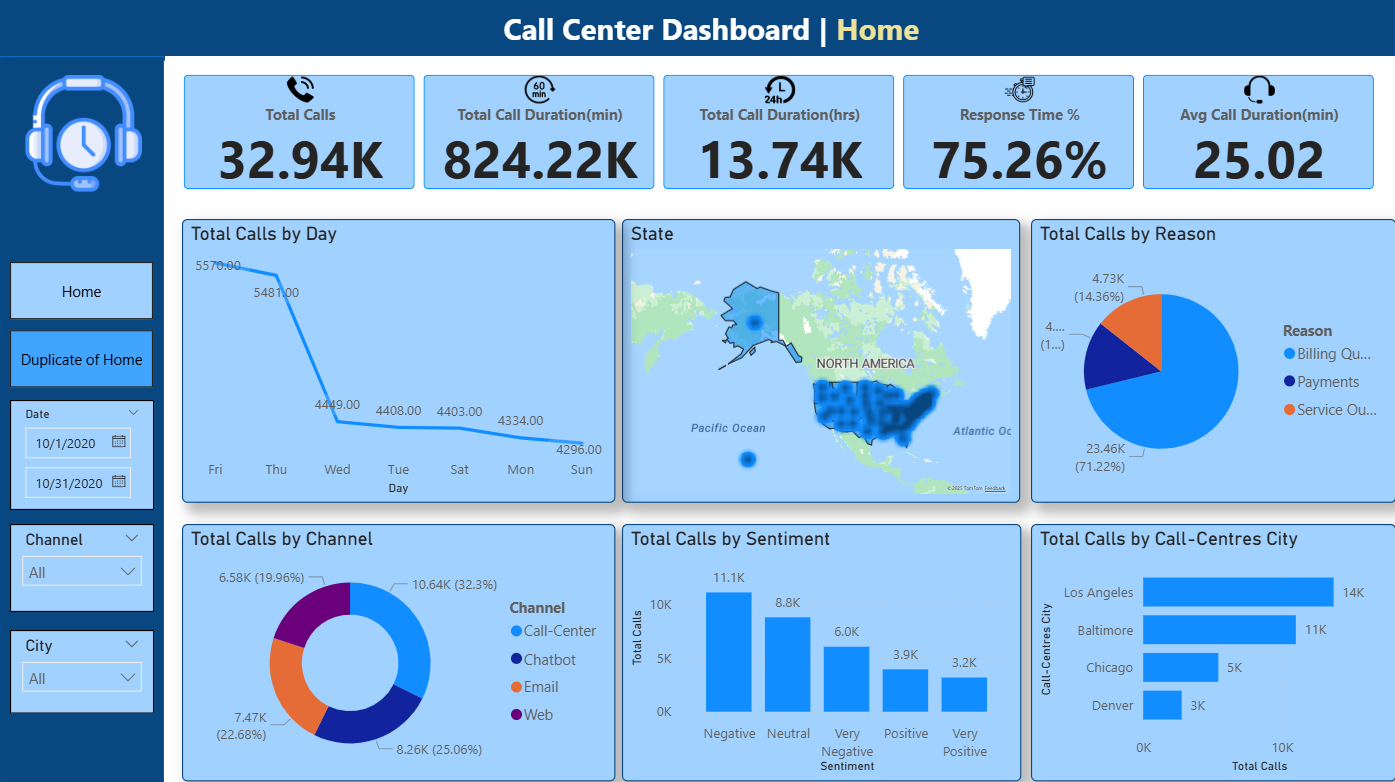

The dashboard page shown, as its layout file describes it:
{"tool":"powerbi","page":{"name":"Home","canvas":[1280,720],"ordinal":0},"visuals":[{"type":"shape","box":[9.9,4.5,1269.9,57.3],"z":0},{"type":"shape","box":[9.9,57.3,150.4,662.7],"z":1000},{"type":"cardVisual","fields":{"Data":["Call Center_Call Center.Total Calls","Call Center_Call Center.Total Call Duration(min)","Call Center_Call Center.Total Call Duration(hrs)","Call Center_Call Center.Response Time %","Call Center_Call Center.Avg Call Duration(min)"]},"box":[161.2,57.3,1118.5,138.8],"z":2000},{"type":"textbox","box":[463.9,9,390.4,48.4],"z":3000},{"type":"azureMap","fields":{"Category":["Call Center_Call Center.State"]},"box":[576.4,205.5,361.8,258.2],"z":4000},{"type":"lineChart","fields":{"Category":["Date Table.Day"],"Y":["Call Center_Call Center.Total Calls"]},"box":[176.4,205.5,393.6,258.2],"z":5000},{"type":"donutChart","fields":{"Category":["Call Center_Call Center.Channel"],"Y":["Call Center_Call Center.Total Calls"]},"box":[176.4,482.7,393.6,233.6],"z":6000},{"type":"columnChart","fields":{"Y":["Call Center_Call Center.Total Calls"],"Category":["Call Center_Call Center.Sentiment"]},"box":[576.4,482.7,362.7,233.6],"z":7000},{"type":"barChart","fields":{"Y":["Call Center_Call Center.Total Calls"],"Category":["Call Center_Call Center.Call-Centres City"]},"box":[948.2,482.7,331.8,233.6],"z":8000},{"type":"pieChart","fields":{"Y":["Call Center_Call Center.Total Calls"],"Category":["Call Center_Call Center.Reason"]},"box":[948.2,205.5,331.8,258.2],"z":9000},{"type":"slicer","fields":{"Values":["Date Table.Date"]},"box":[19.7,369.9,130.7,100.3],"z":10000},{"type":"slicer","fields":{"Values":["Call Center_Call Center.Channel"]},"box":[19.7,482.7,130.7,79.7],"z":11000},{"type":"slicer","fields":{"Values":["Call Center_Call Center.City"]},"box":[19.7,579.4,130.7,76.1],"z":12000},{"type":"pageNavigator","box":[19.7,244.5,130.7,115.5],"z":13000},{"type":"image","box":[19.7,74.3,133.4,105.7],"z":14000}]}

Visuals, with their boxes in screenshot pixels (x1, y1, x2, y2), scaled from the page's 1280x720 canvas onto the 1395x782 screenshot:
shape: 11,5,1394,67
shape: 11,62,175,781
cardVisual - Call Center_Call Center.Total Calls x Call Center_Call Center.Total Call Duration(min): 176,62,1394,213
textbox: 506,10,931,62
azureMap - Call Center_Call Center.State: 628,223,1022,504
lineChart - Date Table.Day x Call Center_Call Center.Total Calls: 192,223,621,504
donutChart - Call Center_Call Center.Channel x Call Center_Call Center.Total Calls: 192,524,621,778
columnChart - Call Center_Call Center.Total Calls x Call Center_Call Center.Sentiment: 628,524,1023,778
barChart - Call Center_Call Center.Total Calls x Call Center_Call Center.Call-Centres City: 1033,524,1394,778
pieChart - Call Center_Call Center.Total Calls x Call Center_Call Center.Reason: 1033,223,1394,504
slicer - Date Table.Date: 21,402,164,511
slicer - Call Center_Call Center.Channel: 21,524,164,611
slicer - Call Center_Call Center.City: 21,629,164,712
pageNavigator: 21,266,164,391
image: 21,81,167,195
